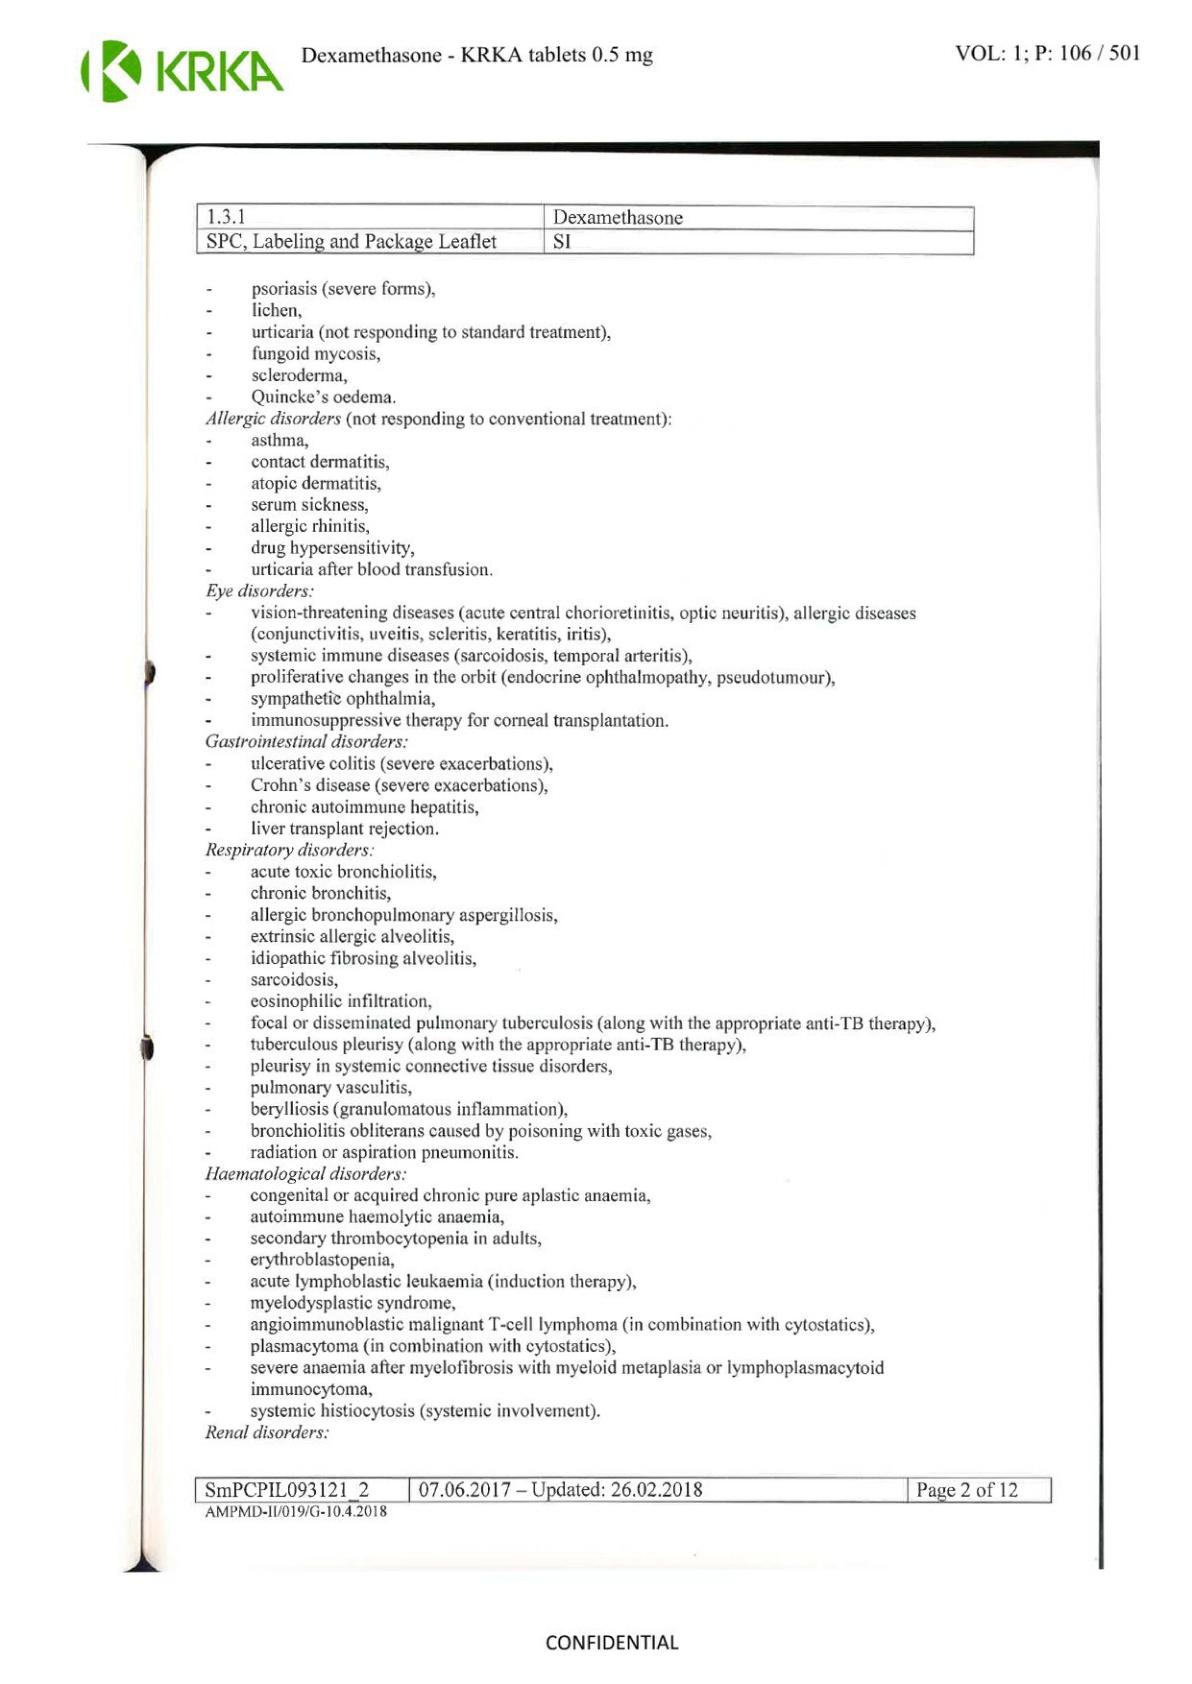full_lined: (196, 202, 975, 255), (194, 1476, 1051, 1503)
